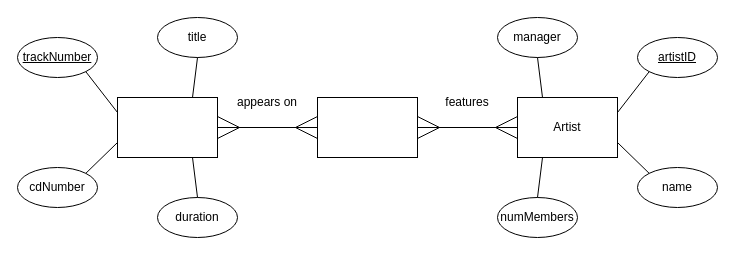
Some shapes in this 735 by 255 pixel diagram are drawn without their labels. The shapes that lost their labels are listed below. From the top down, each one's centre as x and y in pixels, then its label:
At (167,127): "Track".
At (367,127): "CD".
